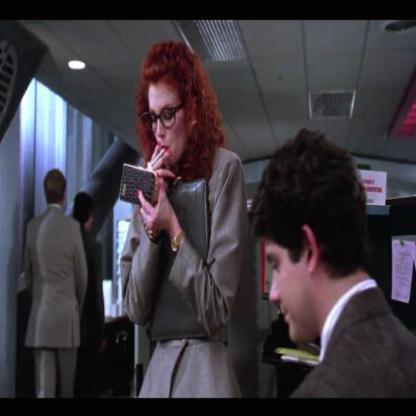cigarette: (150, 146, 166, 168)
person: (255, 136, 412, 404), (130, 53, 249, 398), (22, 168, 80, 399)
